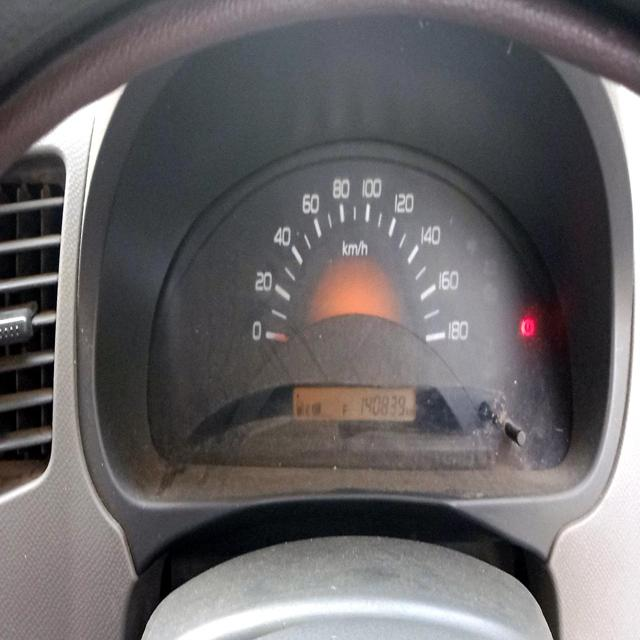odometer: (358, 391, 405, 419)
